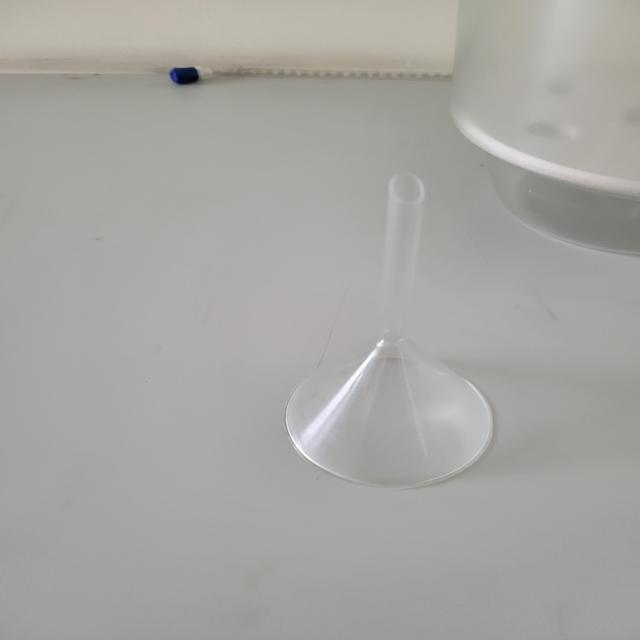Funnel: (244, 132, 544, 525)
